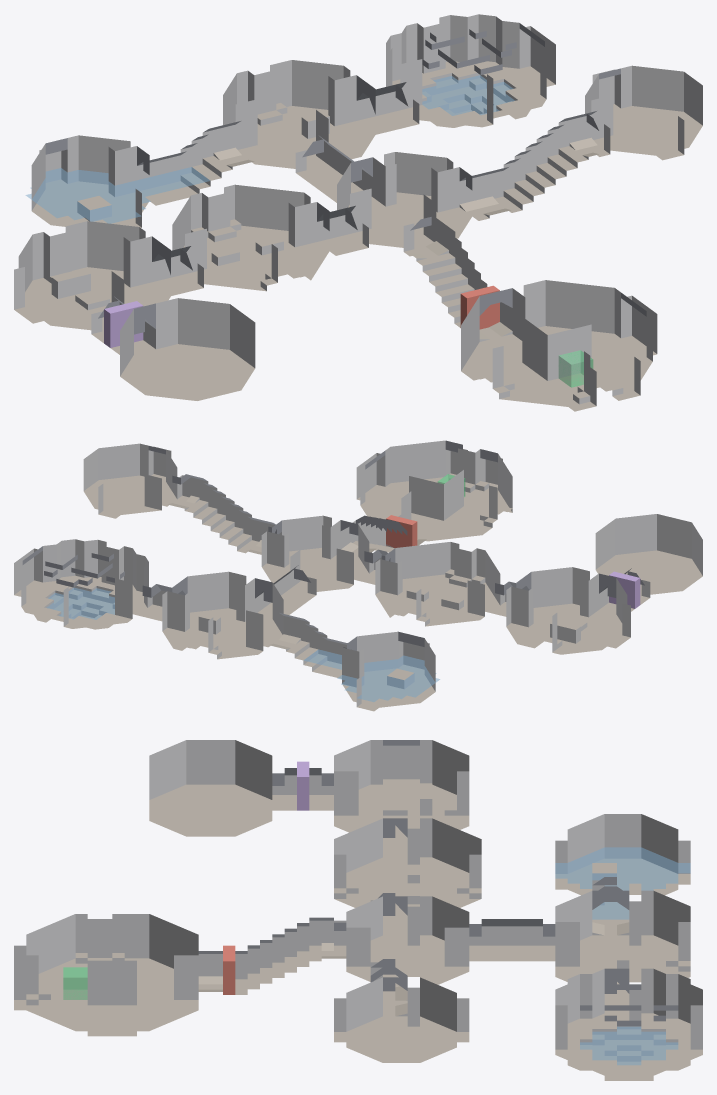
Rendered from pod_military_03.glb.
3 views of the same model, one above another, from view 1: azimuth 30°, elevation 25°; view 2: azimuth 150°, elevation 25°; view 3: azimuth 270°, elevation 25° (orthographic). The views are drawn at different scales.
Visible parts, largest first — view 1: room:2, room:8, room:4, room:6, room:3, room:5, water, room:0, corridor:0, room:7, room:1, corridor:6 (+30 smaller); view 2: room:2, room:8, room:4, room:5, room:3, room:6, room:7, room:0, water, room:1, corridor:0, corridor:6 (+25 smaller); view 3: room:2, room:8, room:6, room:3, room:4, room:7, room:5, room:0, water, room:1, corridor:1, corridor:4 (+19 smaller).
Part boxes in pixels (left/top/right/bottom): room:2: left=461, top=280, right=652, bottom=406; room:8: left=120, top=298, right=255, bottom=400; room:4: left=18, top=221, right=170, bottom=331; room:6: left=386, top=14, right=546, bottom=127; room:3: left=172, top=184, right=329, bottom=291; room:5: left=223, top=60, right=375, bottom=169; water: left=25, top=75, right=514, bottom=223; room:0: left=585, top=65, right=702, bottom=155; corridor:0: left=459, top=111, right=610, bottom=220; room:7: left=31, top=135, right=149, bottom=227; room:1: left=337, top=152, right=472, bottom=248; corridor:6: left=137, top=121, right=254, bottom=205; room:2: left=360, top=440, right=512, bottom=541; room:8: left=595, top=514, right=702, bottom=595; room:4: left=506, top=567, right=627, bottom=654; room:5: left=162, top=571, right=283, bottom=659; room:3: left=375, top=542, right=500, bottom=626; room:6: left=21, top=539, right=148, bottom=629; room:7: left=342, top=631, right=435, bottom=707; room:0: left=83, top=443, right=177, bottom=514; water: left=46, top=587, right=439, bottom=701; room:1: left=261, top=515, right=369, bottom=592; corridor:0: left=167, top=474, right=281, bottom=554; corridor:6: left=269, top=613, right=347, bottom=678; room:2: left=26, top=914, right=198, bottom=1031; room:8: left=149, top=740, right=272, bottom=836; room:6: left=555, top=968, right=702, bottom=1075; room:3: left=334, top=818, right=481, bottom=919; room:4: left=334, top=740, right=469, bottom=841; room:7: left=555, top=814, right=678, bottom=905; room:5: left=555, top=890, right=690, bottom=992; room:0: left=346, top=977, right=456, bottom=1062; water: left=555, top=847, right=690, bottom=1065; room:1: left=346, top=896, right=469, bottom=987; corridor:1: left=198, top=917, right=346, bottom=994; corridor:4: left=469, top=919, right=555, bottom=961.
Size of the model in its own units: 61 by 9.5 by 56.
